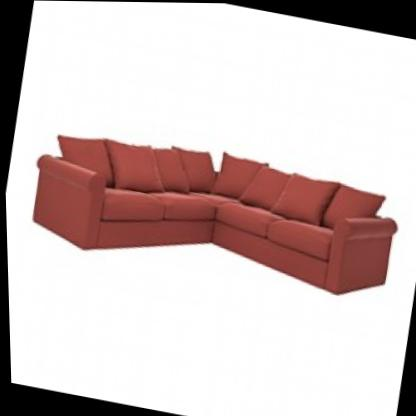Sofa: (7, 79, 412, 336)
